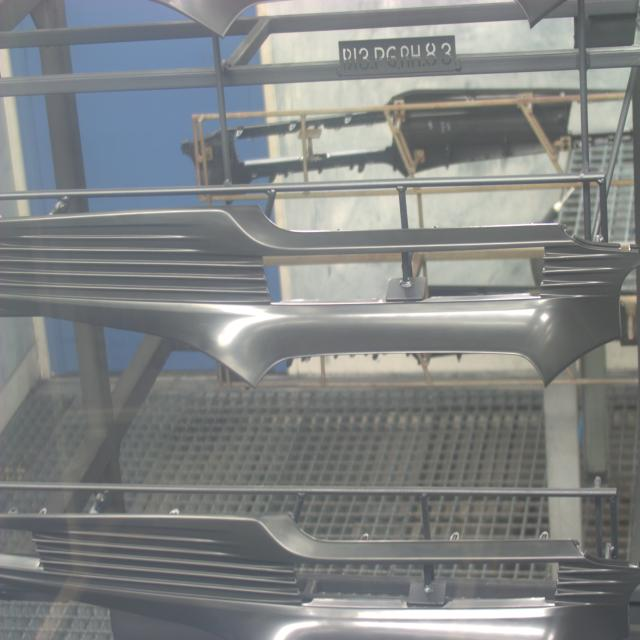Non_primered: (0, 212, 640, 392), (2, 505, 640, 640)
